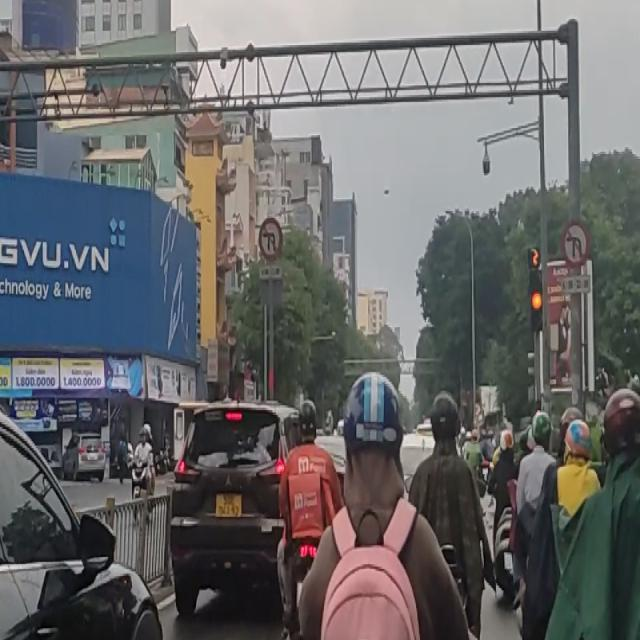Bien bao cam re trai va quay dau: (561, 213, 591, 271), (259, 212, 283, 260)
